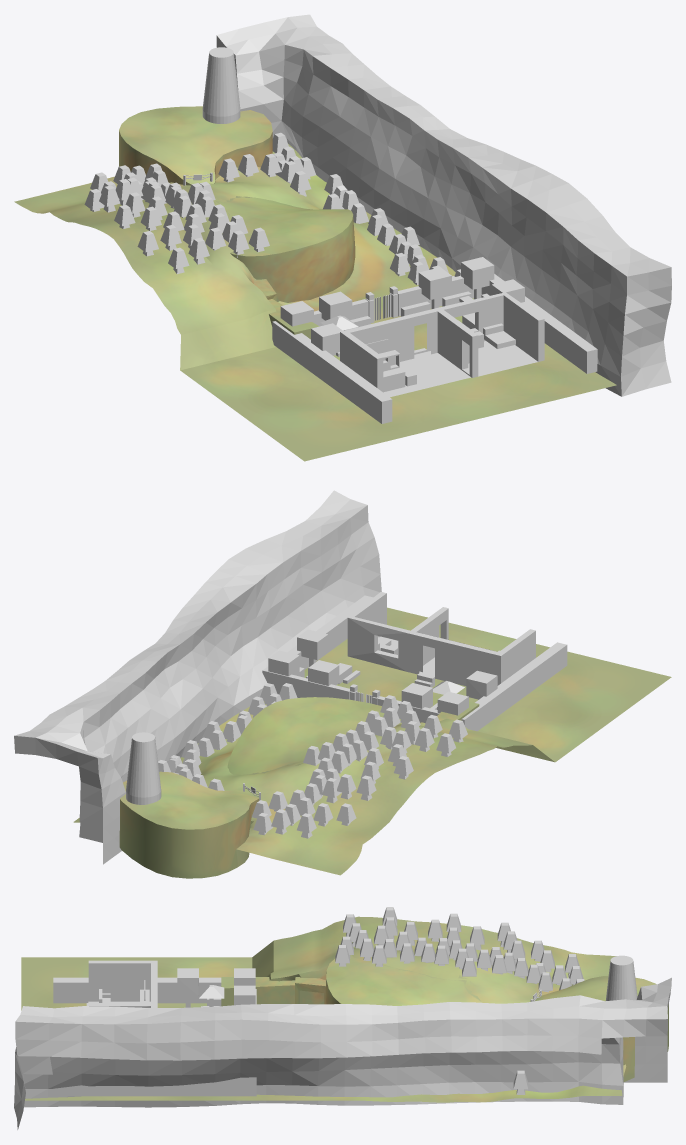
File: enviro.fbx
The picture shows the model from 3 angles, top to bottom: view 1: azimuth 30°, elevation 25°; view 2: azimuth 150°, elevation 25°; view 3: azimuth 270°, elevation 25°; orthographic projection. The views are drawn at different scales.
Visible parts, largest first — view 1: Plane.001, Cube.004, Cube.001, Cube.002, Cylinder.002; view 2: Plane.001, Cube.004, Cube.001, Cube.002, Cylinder.002; view 3: Cube.004, Plane.001, Cube.001, Cube.002, Cylinder.002.
Boxes of the visible parts, x1,y1,x2,y2 form: Plane.001: (14,106,616,461); Cube.004: (216,14,671,396); Cube.001: (272,257,597,423); Cube.002: (84,132,460,285); Cylinder.002: (202,47,240,123); Plane.001: (73,607,671,878); Cube.004: (14,490,381,864); Cube.001: (262,592,567,731); Cube.002: (158,683,467,838); Cylinder.002: (126,732,161,804); Cube.004: (14,977,671,1129); Plane.001: (21,916,668,1102); Cube.001: (53,960,256,1096); Cube.002: (335,907,584,1094); Cylinder.002: (605,955,637,1000).
Size of the model in its own units: 3111 by 1002 by 5053.
Materials: 1 (1 with a texture image).
